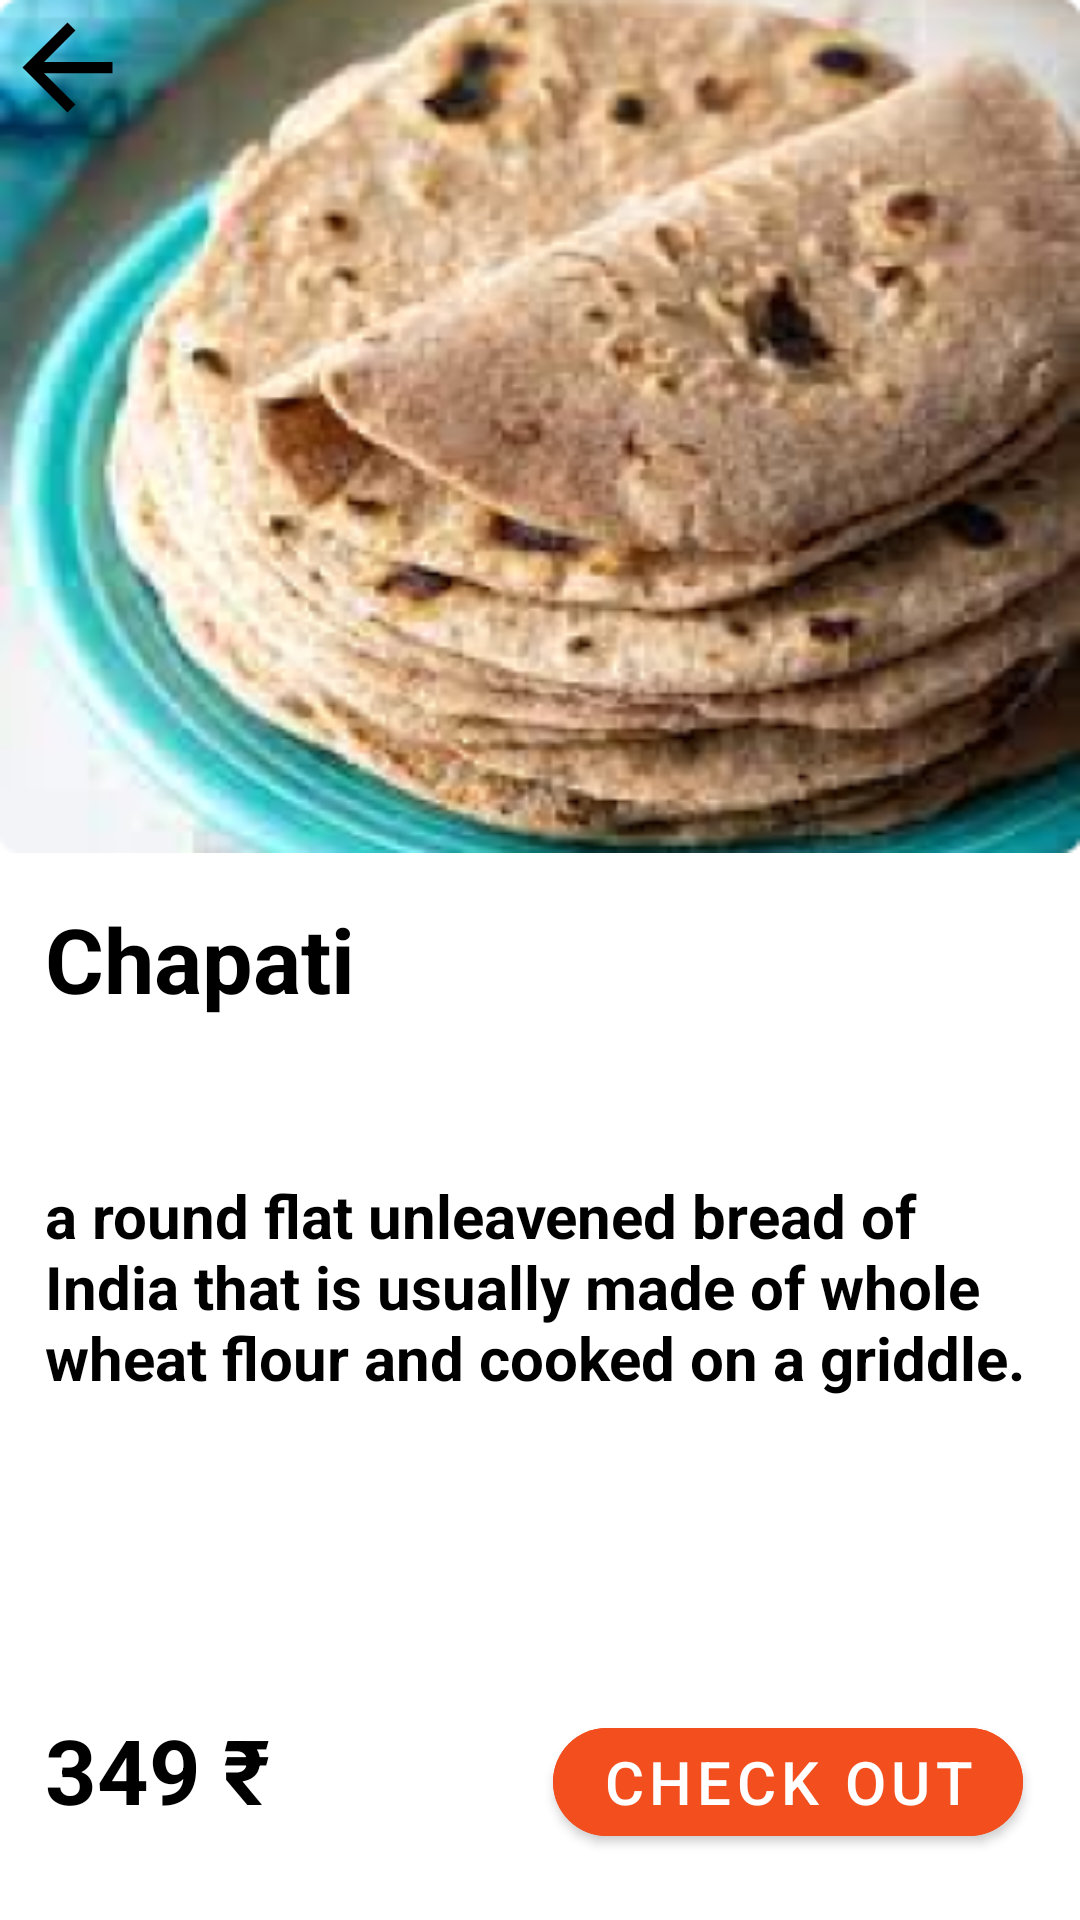

Icon click points for this 1080px x 1920px phone screenshot, format point (x, y):
back: point (67, 67)
